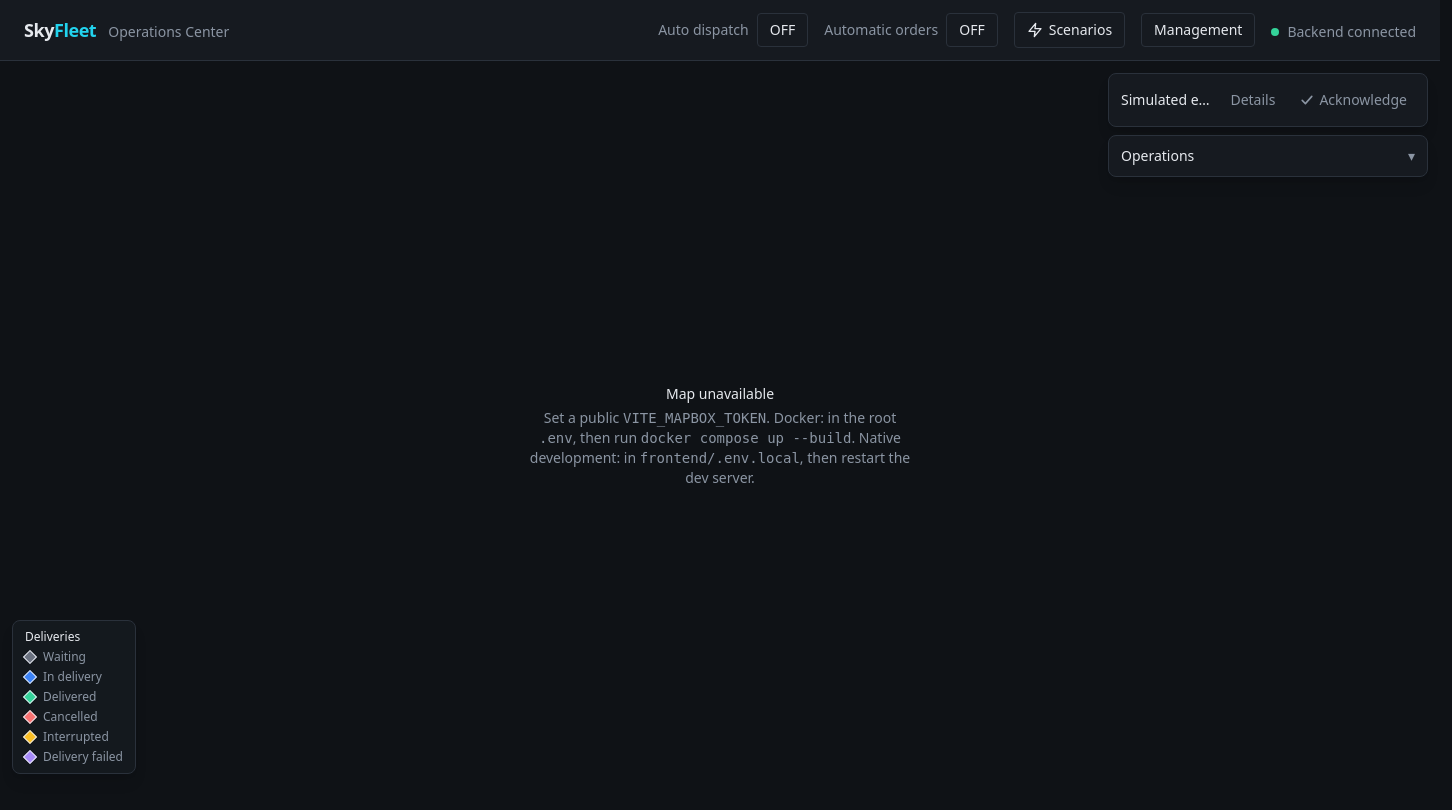
App Events tab and emergency acknowledgement › keeps the alert in both places and shows an error when the acknowledgement fails
What coordinates should you click on to do the following:
click the button with aria-label "Acknowledge emergency for DRN-010"
I would click on:
 (1353, 100)
Its box is [1291, 80, 1415, 120].
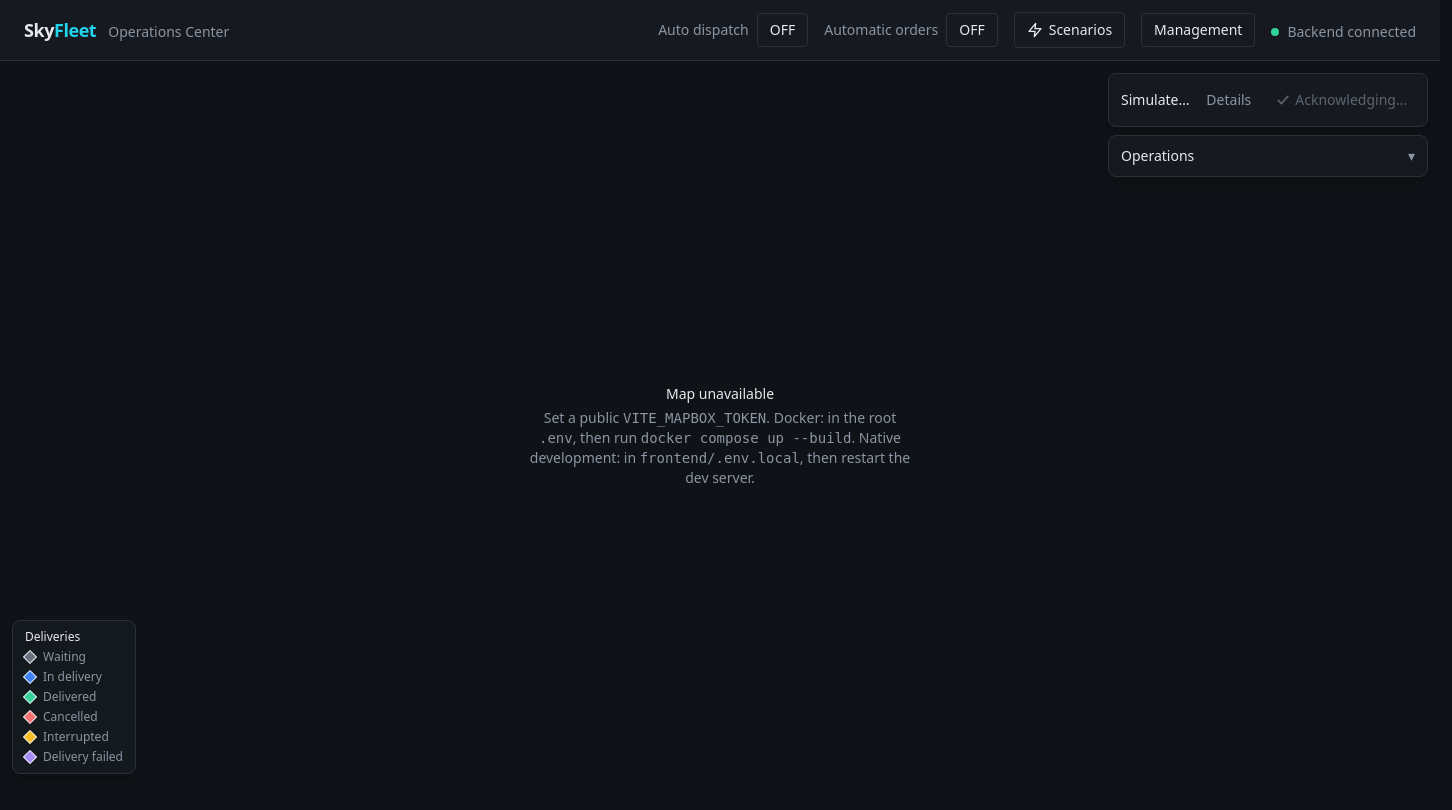
What coordinates should you click on to do the following:
click the button "Operations ▾"
I would click on:
 (1158, 156)
Its box is [1109, 136, 1427, 176].
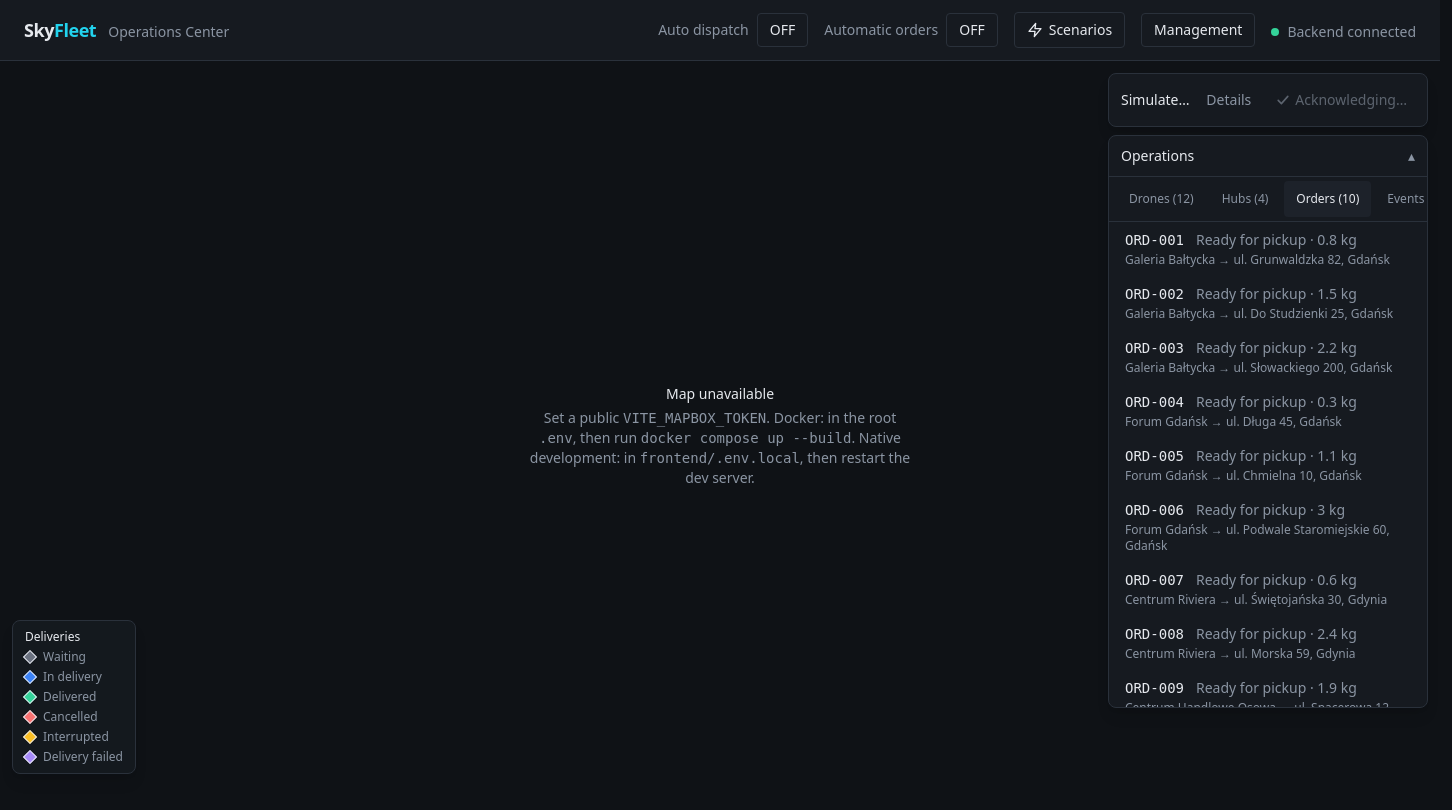
What coordinates should you click on to do the following:
click the tab "Events"
I would click on:
 (1406, 199)
Its box is [1375, 181, 1436, 217].
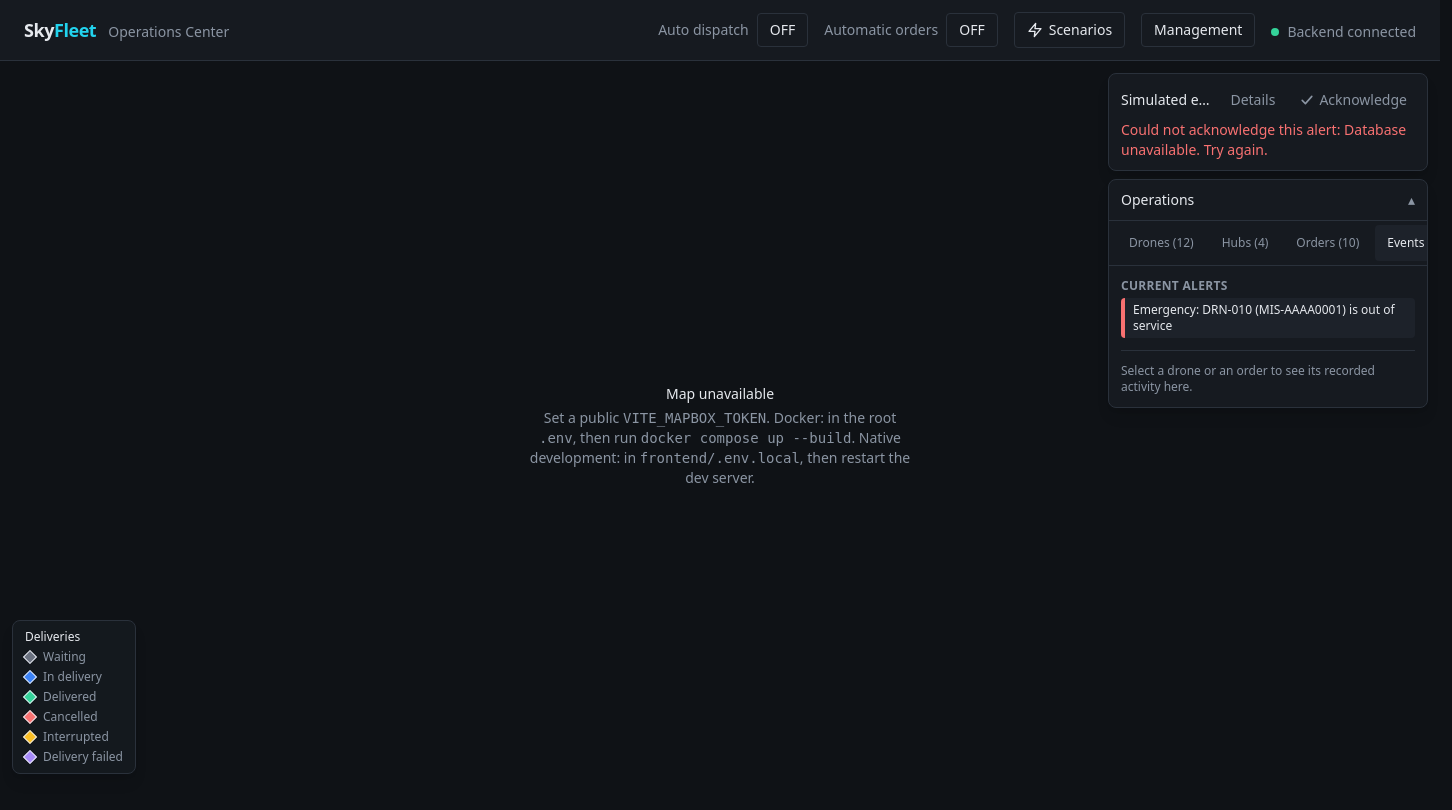
Check: the button with aria-label "Acknowledge emergency for DRN-010" is enabled, box [1291, 80, 1415, 120]
